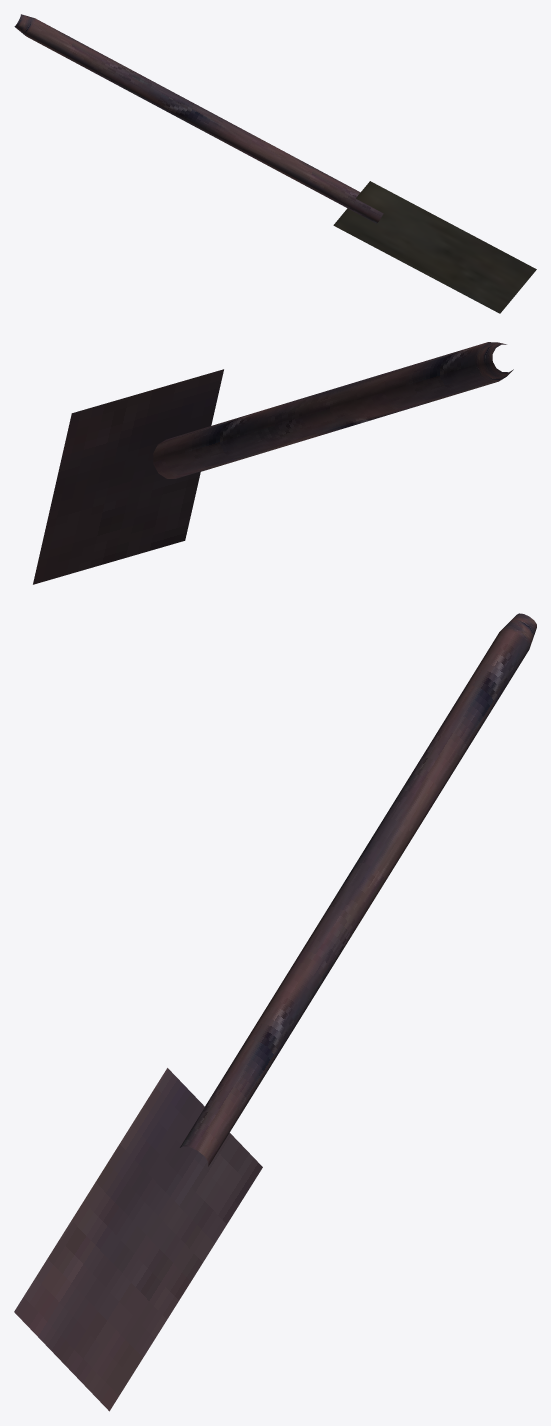
The model's file is shovel.glb.
The picture shows the model from 3 angles, top to bottom: view 1: azimuth 30°, elevation 25°; view 2: azimuth 150°, elevation 25°; view 3: azimuth 270°, elevation 25°; orthographic projection. The views are drawn at different scales.
Visible parts, largest first — view 1: shovelwield.ms3d.mo; view 2: shovelwield.ms3d.mo; view 3: shovelwield.ms3d.mo.
Boxes of the visible parts, <box> form: shovelwield.ms3d.mo: <box>14,14,536,313</box>; shovelwield.ms3d.mo: <box>33,342,513,584</box>; shovelwield.ms3d.mo: <box>14,613,536,1411</box>.
Size of the model in its own units: 32.1 by 24.45 by 23.06.
2 materials, 2 textured.
